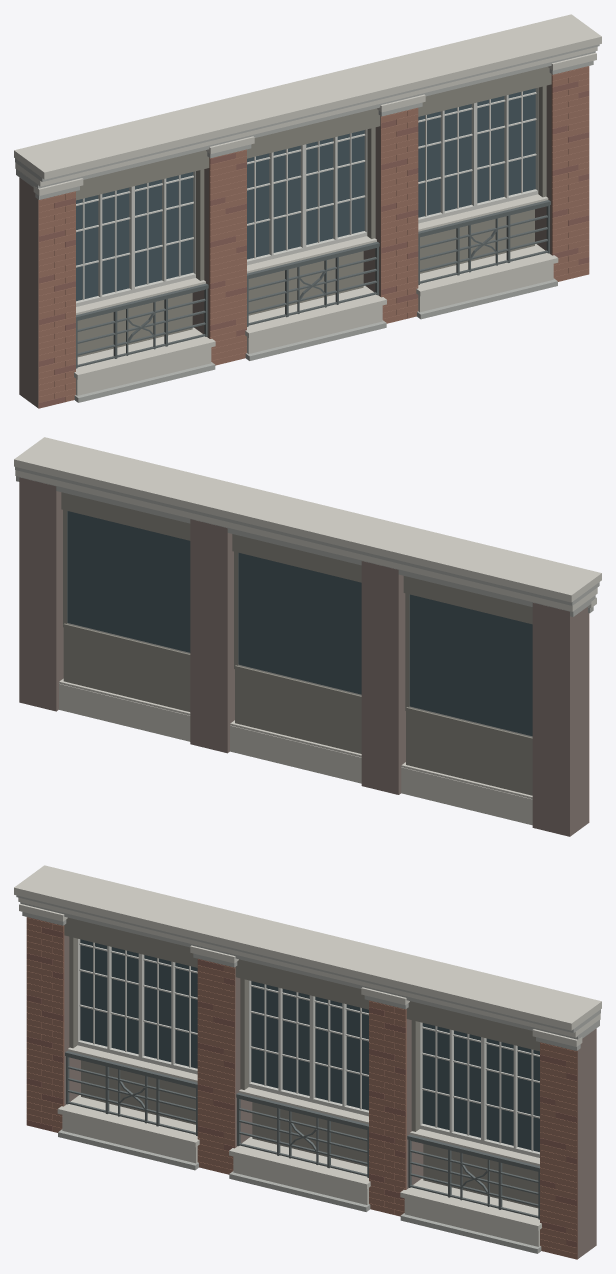
File: xuhui-baoqing-no3-iron-gallery-raw.glb
The picture shows the model from 3 angles, top to bottom: view 1: azimuth 30°, elevation 25°; view 2: azimuth 150°, elevation 25°; view 3: azimuth 330°, elevation 25°; orthographic projection.
Parts seen in each view (by area): view 1: 宝庆路20号花园住宅三号楼三跨铁栏廊; view 2: 宝庆路20号花园住宅三号楼三跨铁栏廊; view 3: 宝庆路20号花园住宅三号楼三跨铁栏廊.
Part boxes in pixels (x1,y1,x2,y2): 宝庆路20号花园住宅三号楼三跨铁栏廊: (14,14,601,408); 宝庆路20号花园住宅三号楼三跨铁栏廊: (14,437,601,836); 宝庆路20号花园住宅三号楼三跨铁栏廊: (14,865,601,1259).
Bounding box in the file's own units: 8.24 × 3.44 × 0.78.
